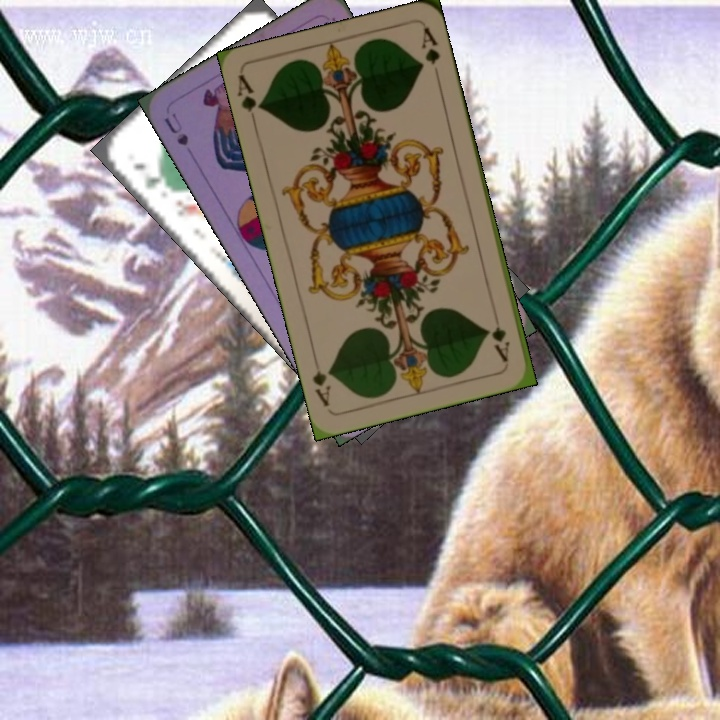GA: (233, 71, 266, 130), (487, 322, 513, 365)
GK: (129, 158, 164, 192)
SU: (160, 109, 192, 149)
